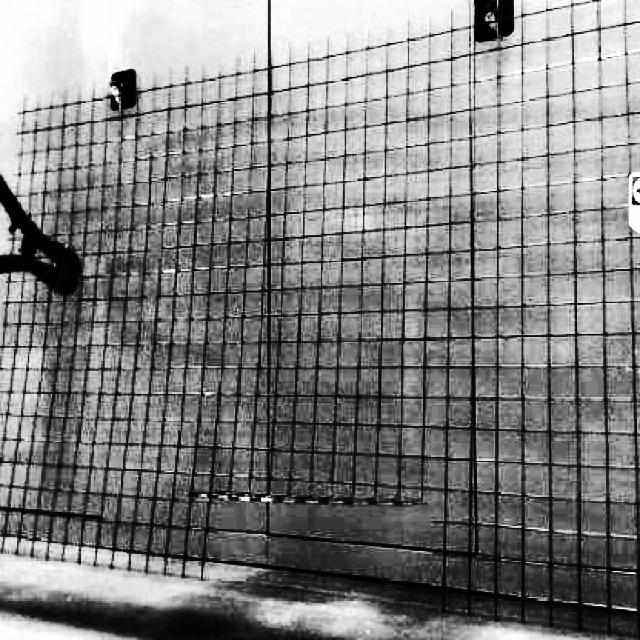anomaly-fence: (187, 450, 475, 593)
fences: (122, 110, 588, 394)
